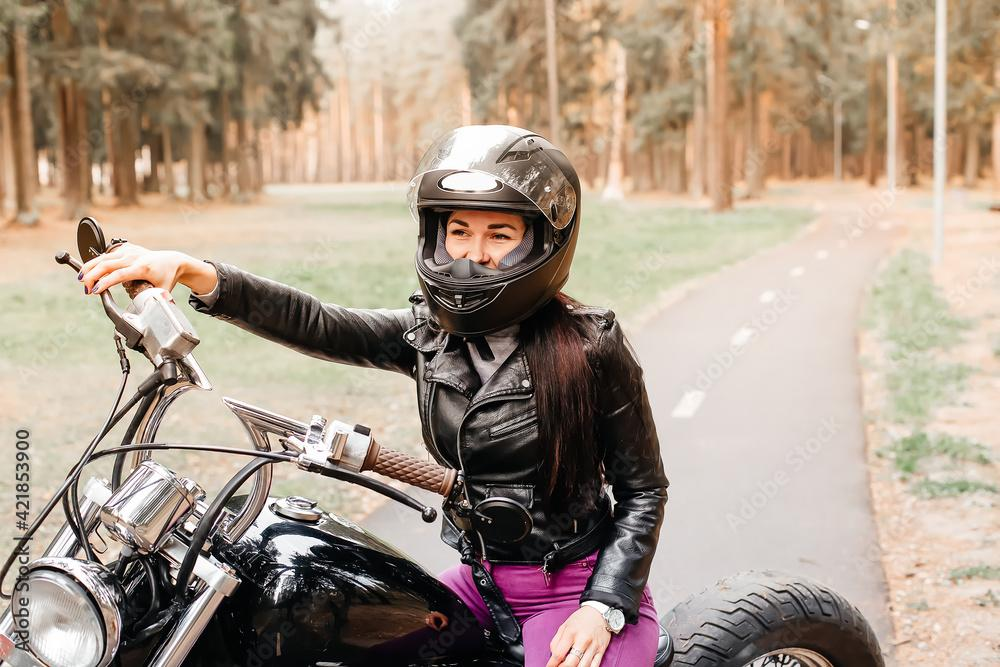helmet: (405, 124, 582, 339)
